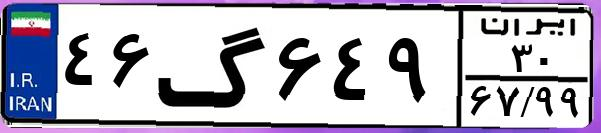0: (537, 27, 568, 80)
3: (508, 27, 537, 80)
4: (330, 28, 385, 110), (57, 26, 110, 100)
6: (270, 28, 330, 110), (110, 28, 156, 98), (470, 70, 495, 125)
7: (495, 70, 520, 125)
9: (385, 28, 445, 110), (560, 70, 590, 125), (535, 70, 560, 125)
گ: (156, 12, 270, 120)
